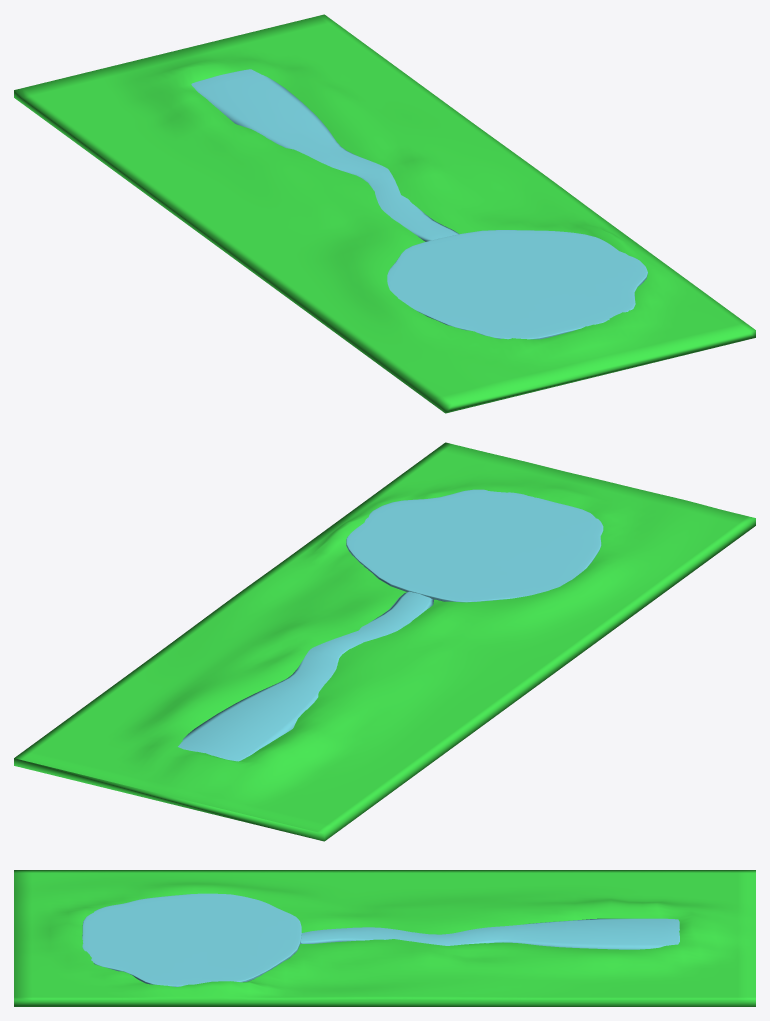
Rendered from river.fbx.
The picture shows the model from 3 angles, top to bottom: view 1: azimuth 30°, elevation 25°; view 2: azimuth 150°, elevation 25°; view 3: azimuth 270°, elevation 25°; orthographic projection. The views are drawn at different scales.
Visible parts, largest first — view 1: Plane, Cube.001, Cube; view 2: Plane, Cube.001, Cube; view 3: Plane, Cube.001, Cube.
Part boxes in pixels (left/top/right/bottom): Plane: left=14, top=14, right=755, bottom=413; Cube.001: left=387, top=230, right=647, bottom=339; Cube: left=191, top=69, right=459, bottom=241; Plane: left=14, top=442, right=755, bottom=841; Cube.001: left=346, top=489, right=603, bottom=602; Cube: left=178, top=591, right=434, bottom=761; Plane: left=14, top=870, right=755, bottom=1006; Cube.001: left=82, top=893, right=301, bottom=986; Cube: left=300, top=918, right=679, bottom=949.
Bounding box in the file's own units: 1472 × 99.7 × 3542.
